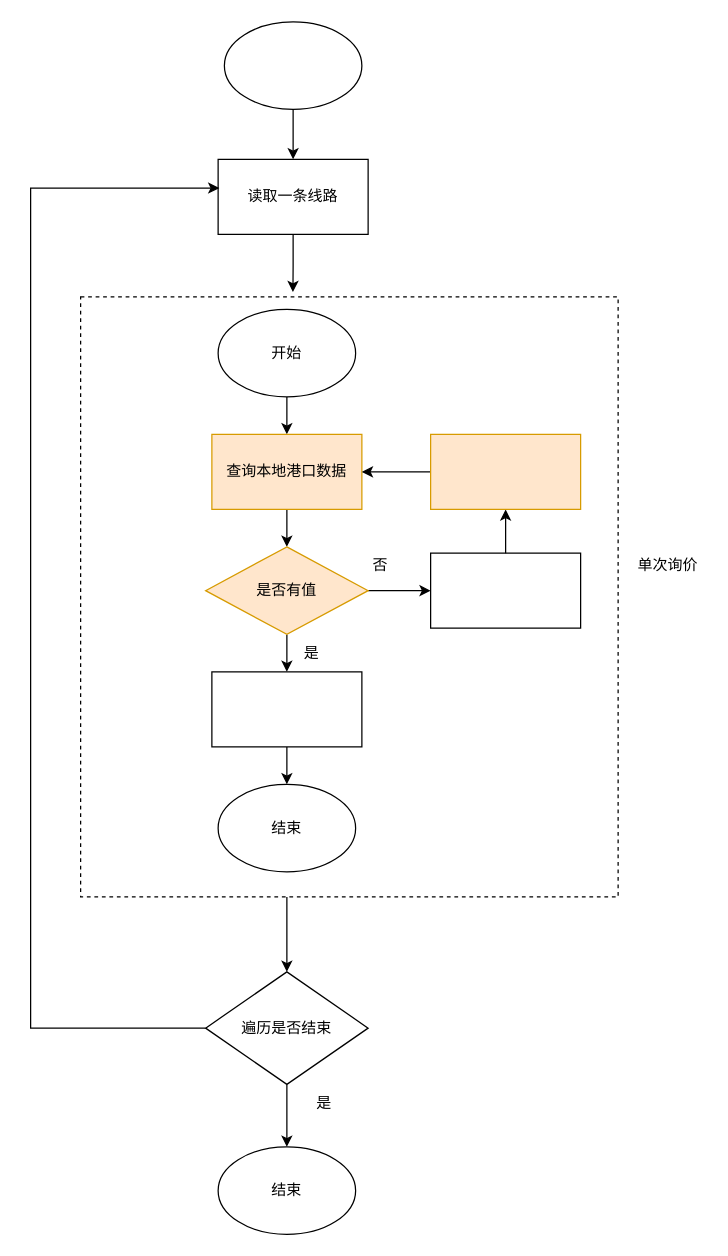
Some shapes in this 728 by 1256 pixel diagram are drawn without their labels. The shapes that lost their labels are listed below. From the top down, each one's centre as x and y in pixels, then its label:
At pixel 292 65: "导入报价".
At pixel 505 471: "写入本地缓存".
At pixel 505 590: "查询Redis港口数据".
At pixel 286 709: "查价".
